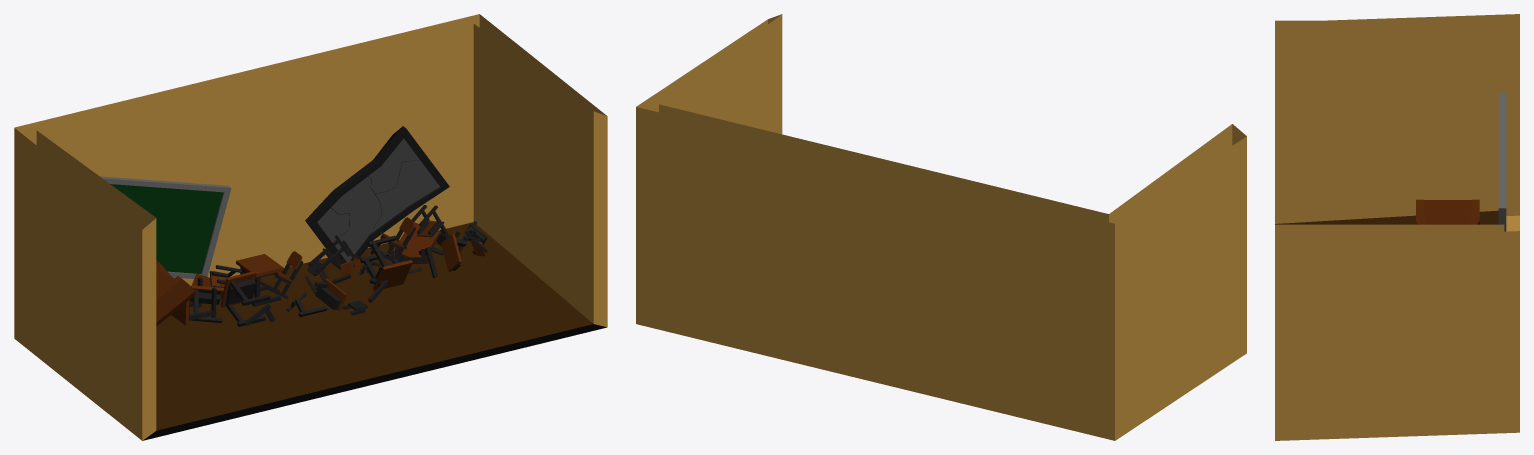
The model's file is school2.FBX.
3 renders of one model, left to right at view 1: azimuth 30°, elevation 25°; view 2: azimuth 150°, elevation 25°; view 3: azimuth 270°, elevation 25°, orthographic. The views are drawn at different scales.
Visible parts, largest first — view 1: Box001; view 2: Box001; view 3: Box001.
Boxes of the visible parts, bbox=[...] form: Box001: bbox=[14, 14, 607, 440]; Box001: bbox=[636, 14, 1246, 440]; Box001: bbox=[1275, 14, 1519, 440].
Bounding box in the file's own units: 1023 × 461 × 487.
